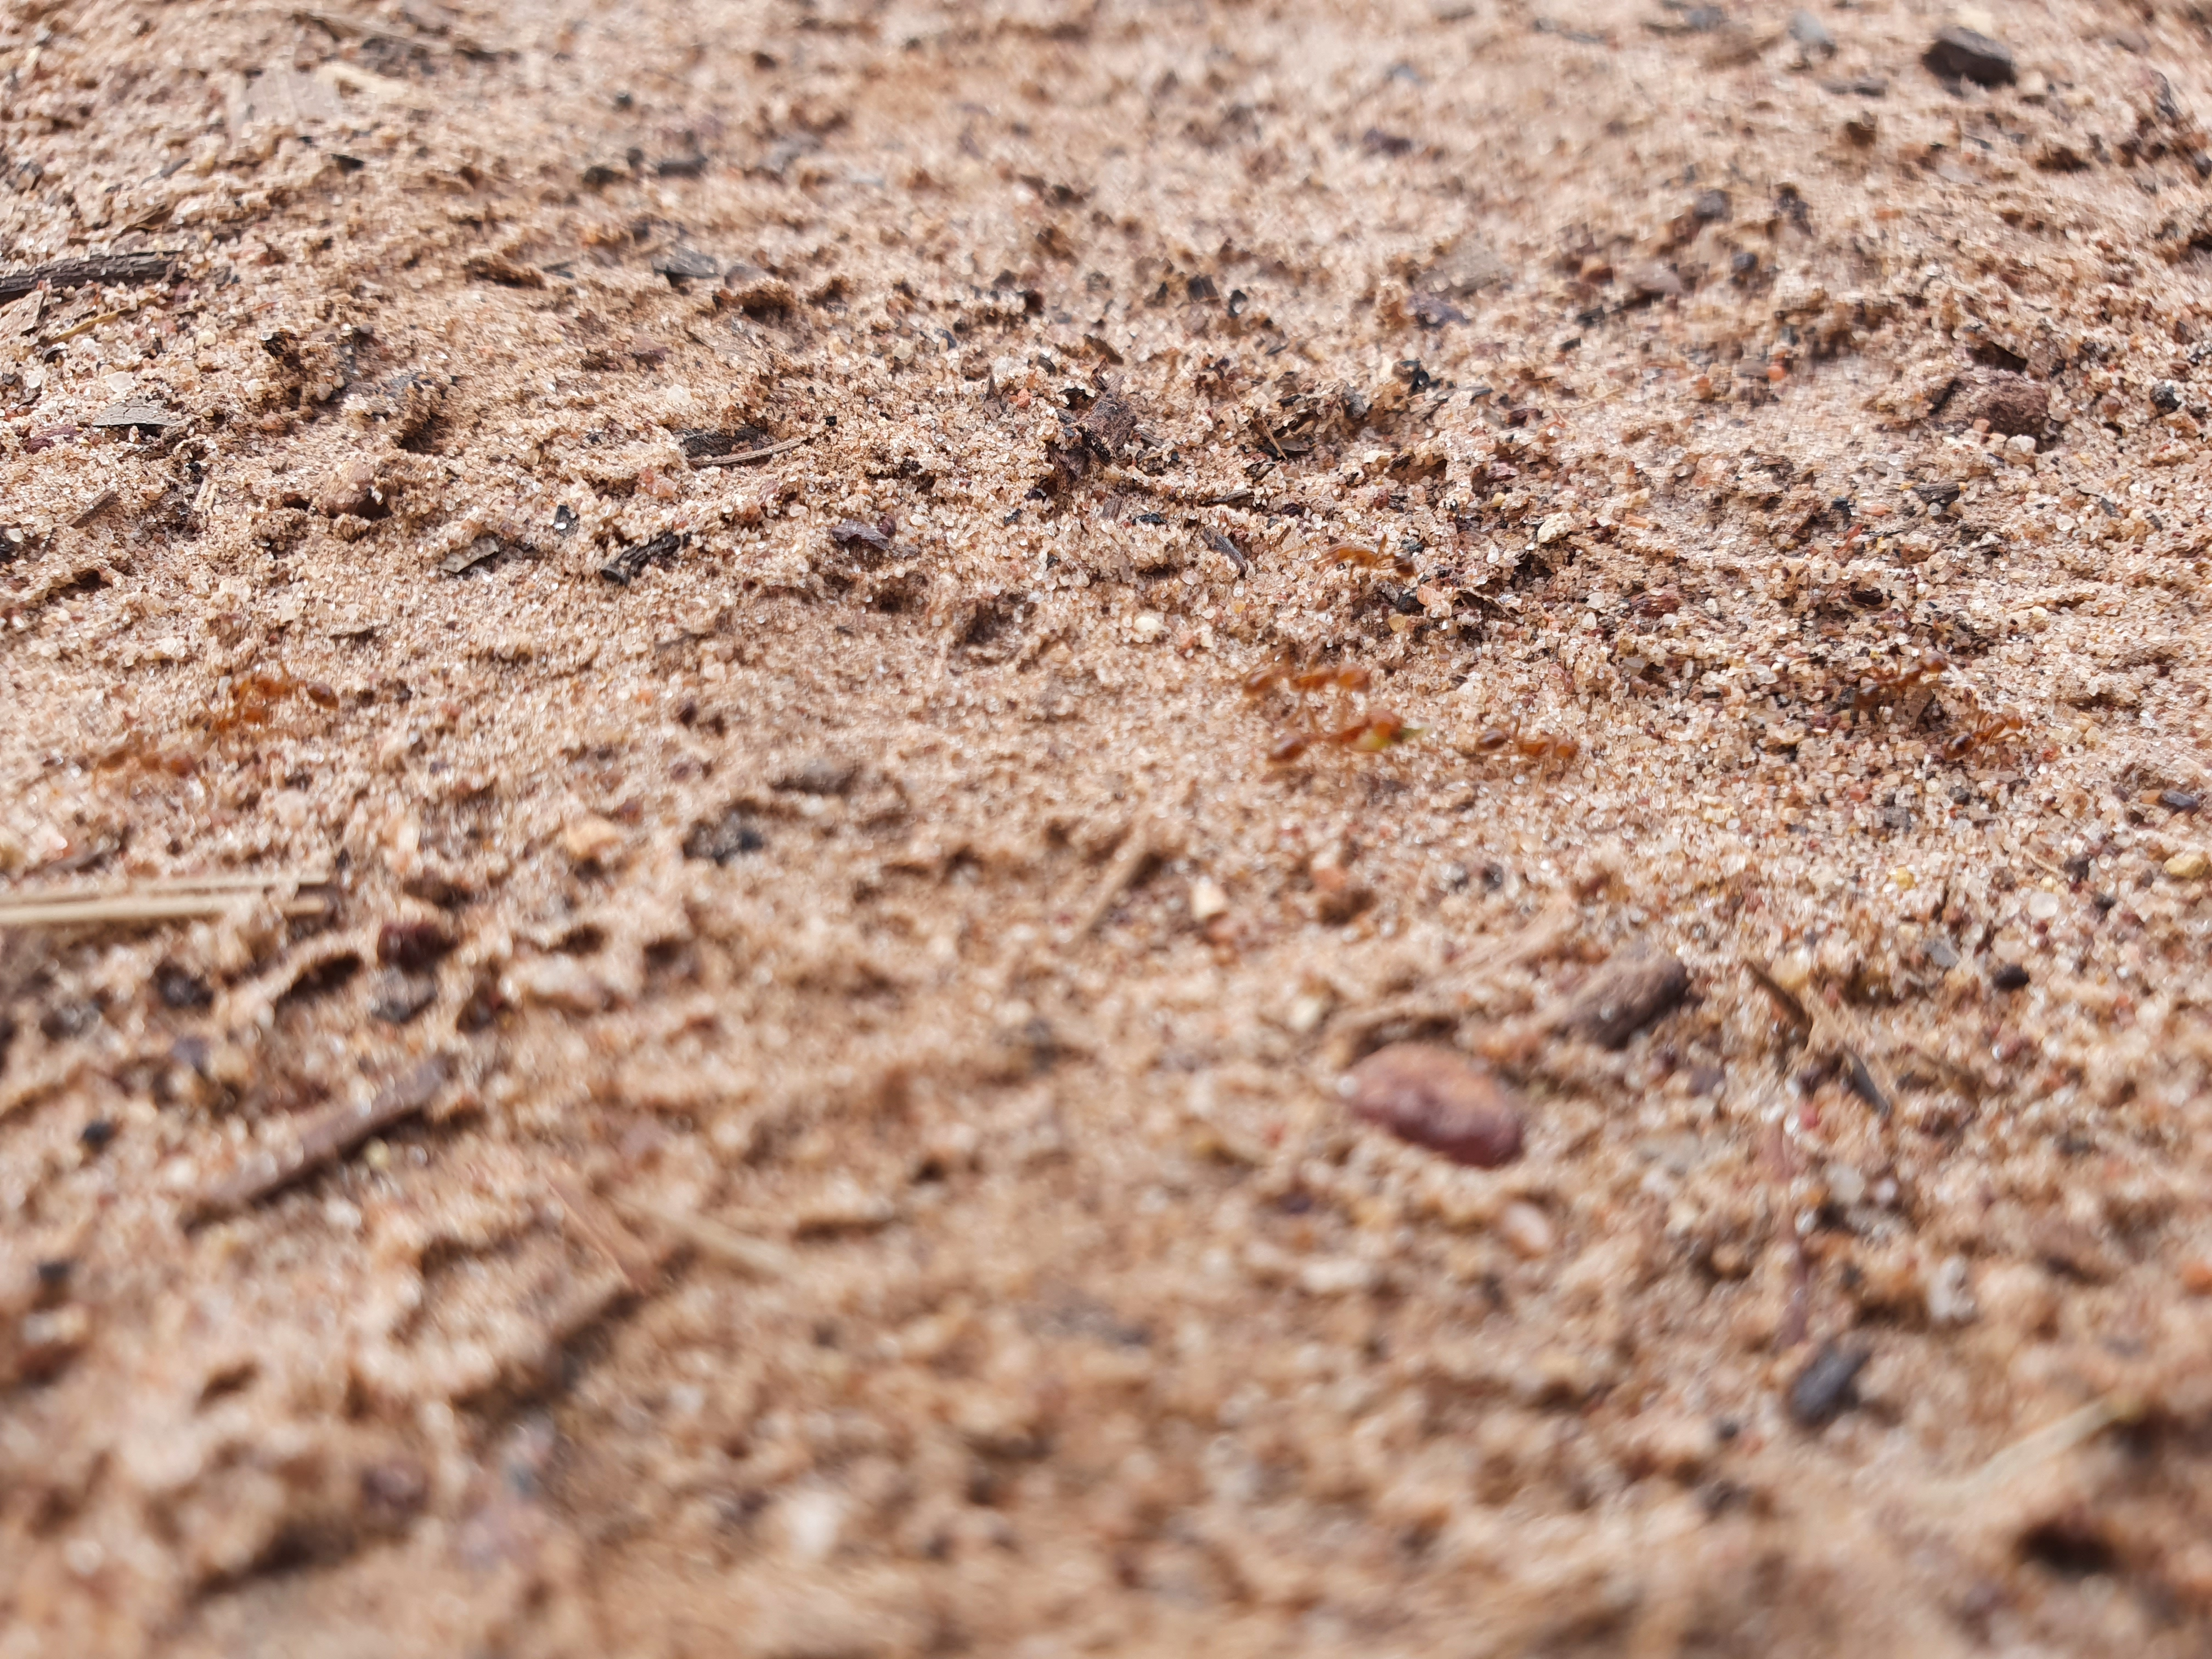Solenopsis_geminata: (1212, 622, 1385, 714), (1458, 699, 1609, 795), (1825, 631, 1963, 727), (1932, 687, 2057, 789)
